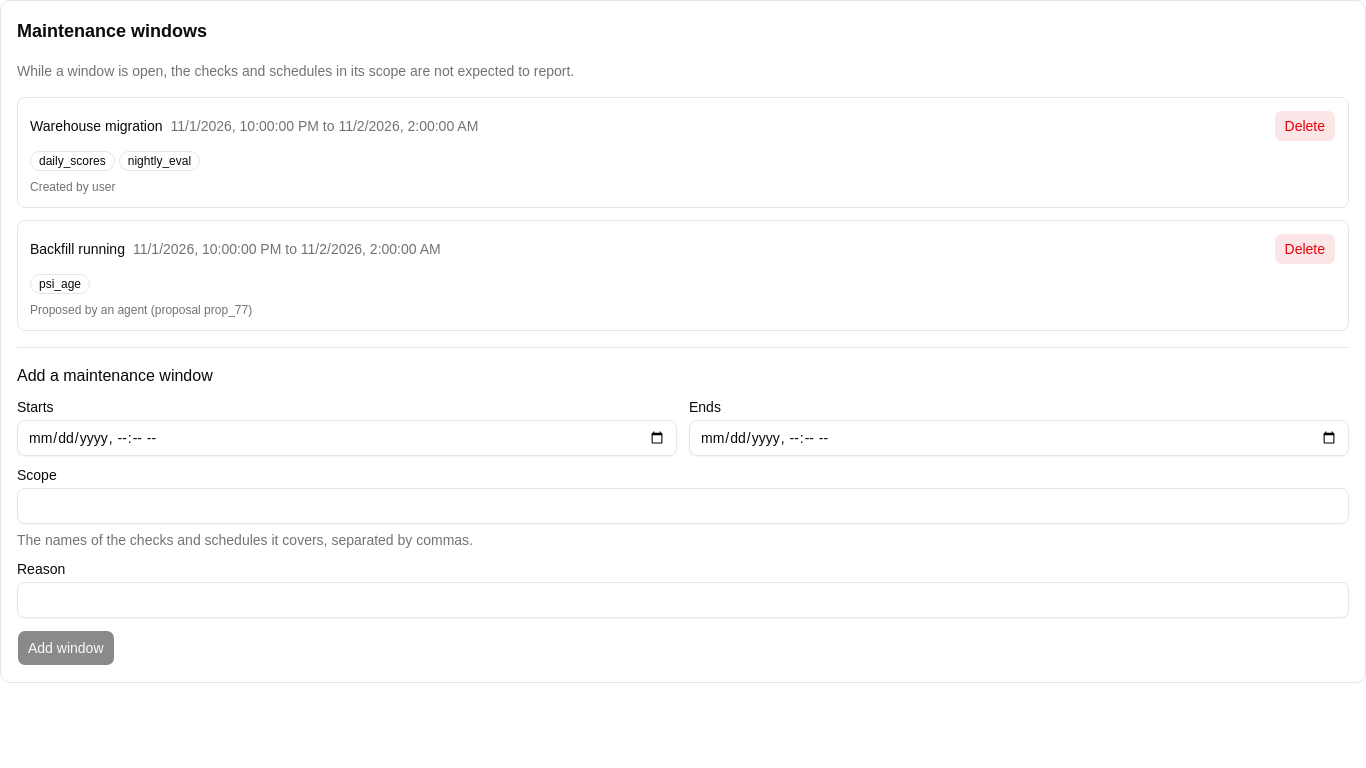
Scenario: MaintenanceSection › shows a refused delete as the server wrote it
The image size is (1366, 768).
Click the button with aria-label "Delete window daily_scores, nightly_eval". click: (1305,126)
box: [1274,110,1336,142]
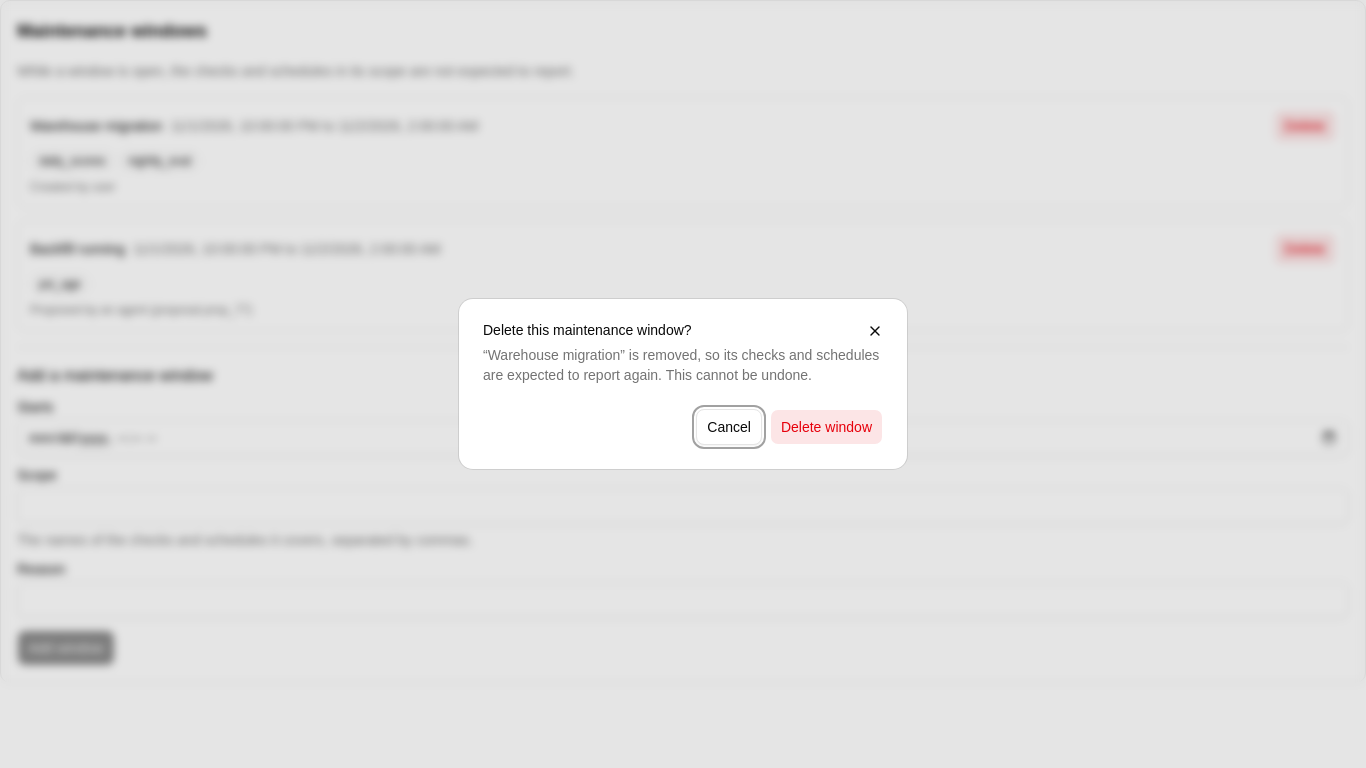
Click the button "Delete window". click: (826,427)
box: [770,409,883,445]
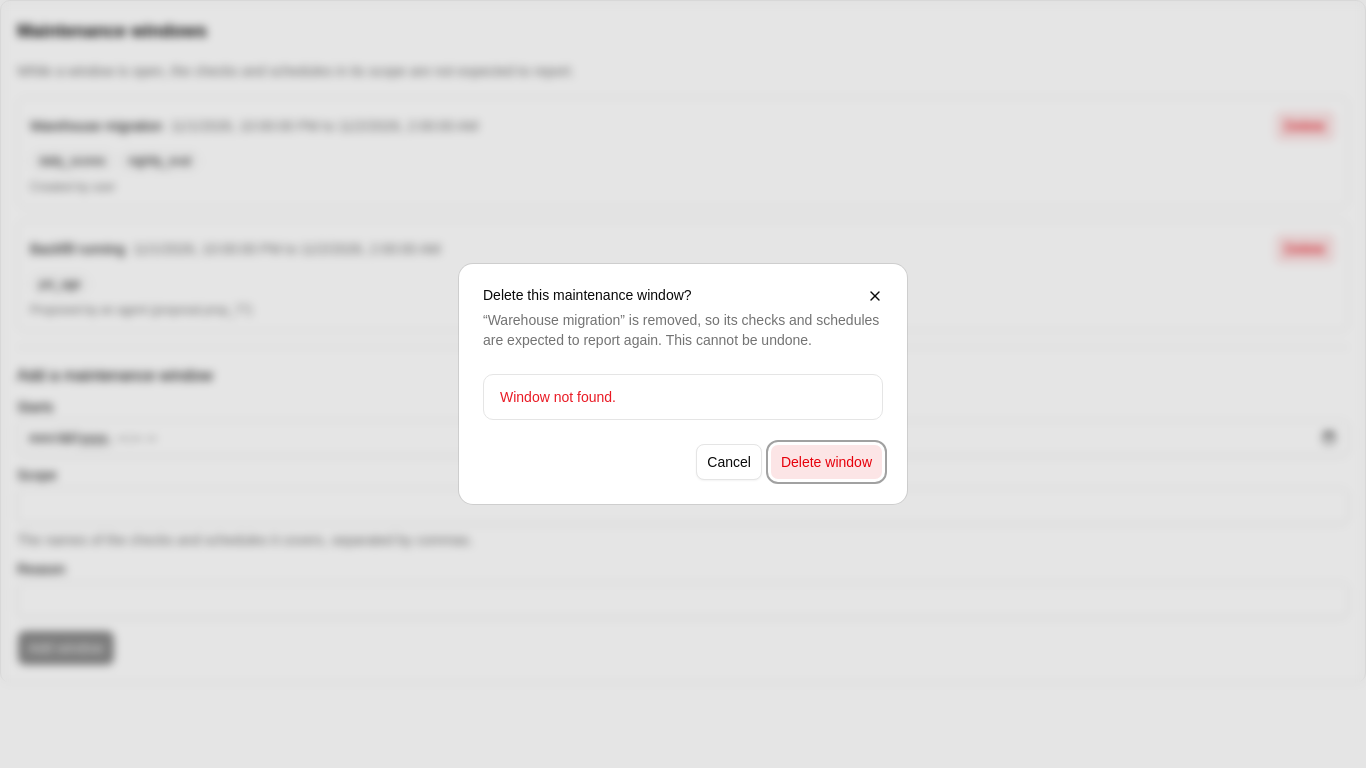
expect the text "Window not found." is shown: met, box [500,389,616,405]
